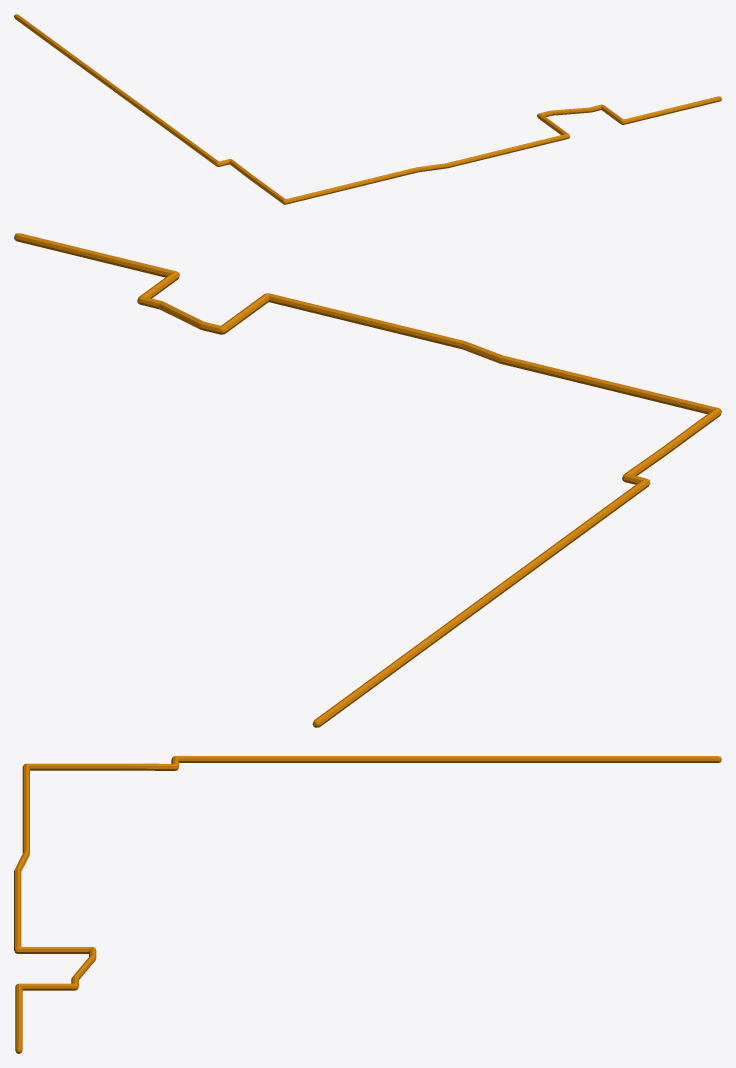
The picture shows the model from 3 angles, top to bottom: view 1: azimuth 30°, elevation 25°; view 2: azimuth 150°, elevation 25°; view 3: azimuth 270°, elevation 25°; orthographic projection. The views are drawn at different scales.
Bounding box in the file's own units: 1858 × 20 × 1891.
